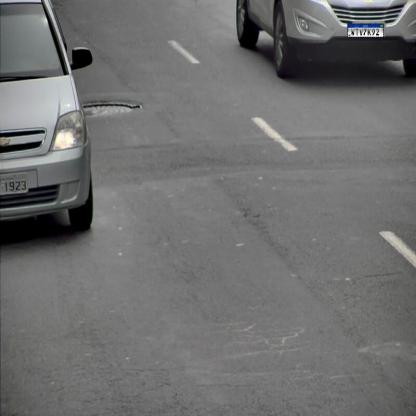PlacaM: (347, 24, 384, 38)
